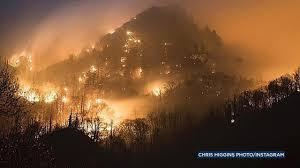fire: (147, 82, 165, 96)
